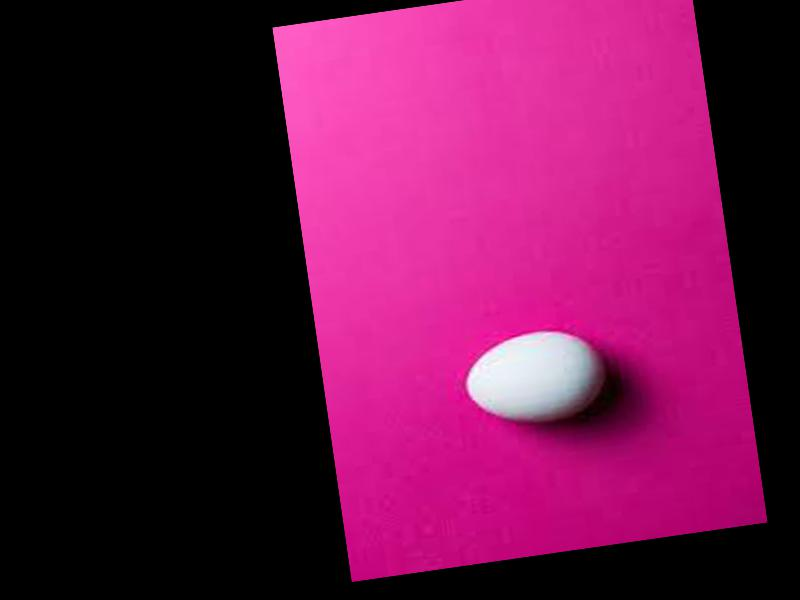Eggs: (460, 323, 609, 431)
